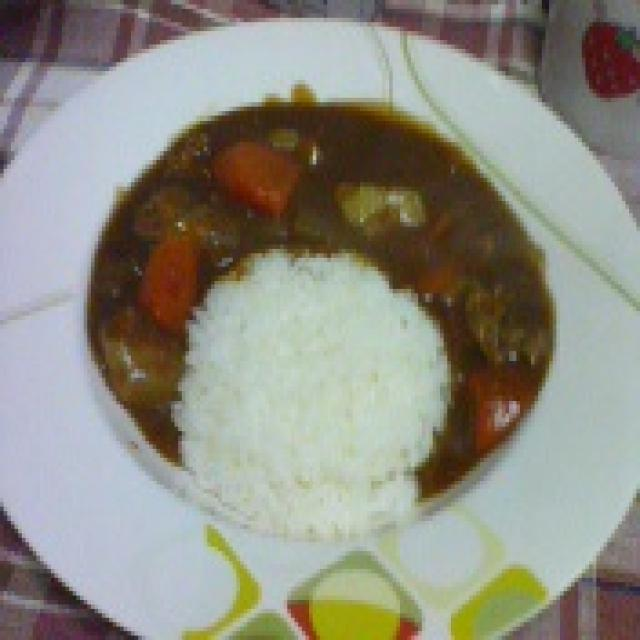牛肉菜式: (0, 13, 640, 640)
